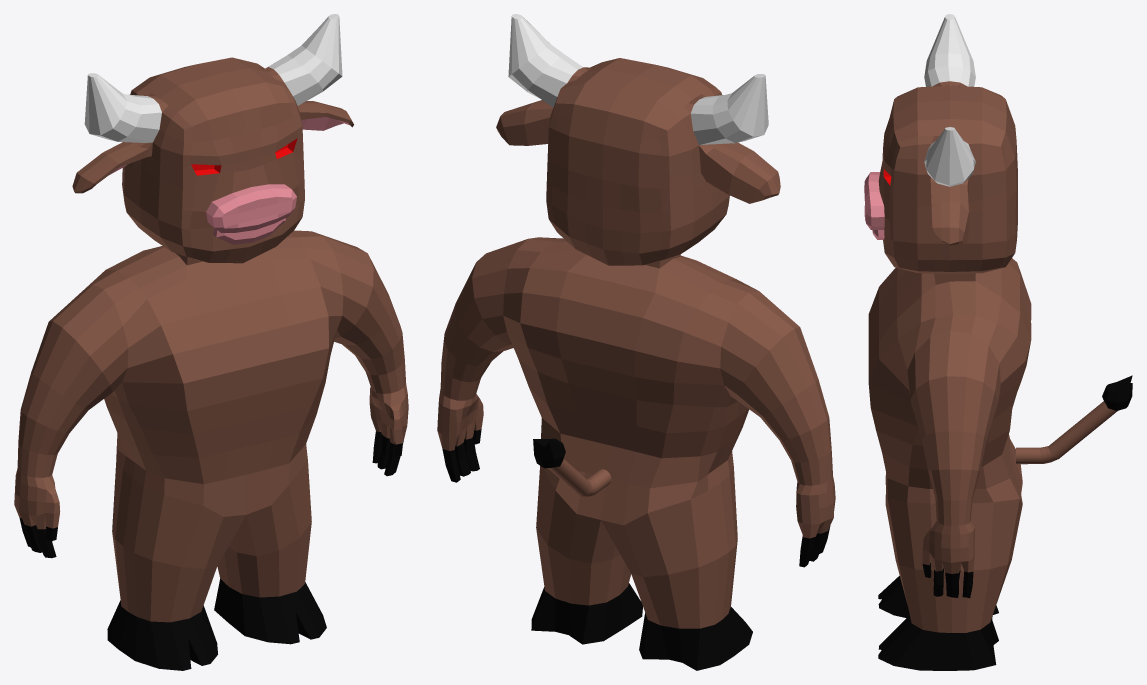
Rendered from Bestia.fbx.
3 renders of one model, left to right at view 1: azimuth 30°, elevation 25°; view 2: azimuth 150°, elevation 25°; view 3: azimuth 270°, elevation 25°, orthographic. The views are drawn at different scales.
Visible parts, largest first — view 1: Cube.001, Cube; view 2: Cube.001, Cube, Cone, Cube.008; view 3: Cube.001, Cube, Cone, Cube.008.
Part boxes in pixels (x1,y1,x2,y2): Cube.001: (14,230,408,670); Cube: (72,14,353,263); Cube.001: (437,237,835,670); Cube: (496,14,780,265); Cone: (548,459,611,497); Cube.008: (533,438,565,468); Cube.001: (868,258,1031,670); Cube: (864,14,1017,273); Cone: (1016,401,1117,464); Cube.008: (1102,375,1132,410).
Size of the model in its own units: 774 by 1109 by 486.
